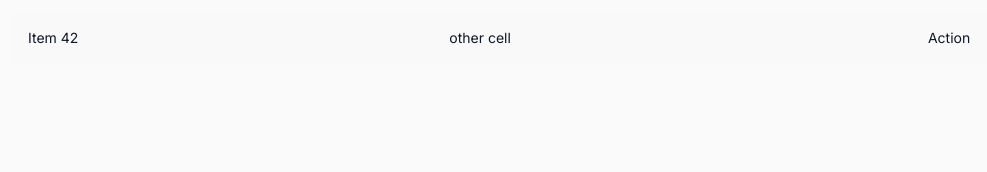
LinkTableRow › navigates with its state when any non-interactive cell is clicked
The image size is (987, 172).
Click the text "other cell" at (480,38), box [433,12,912,64]
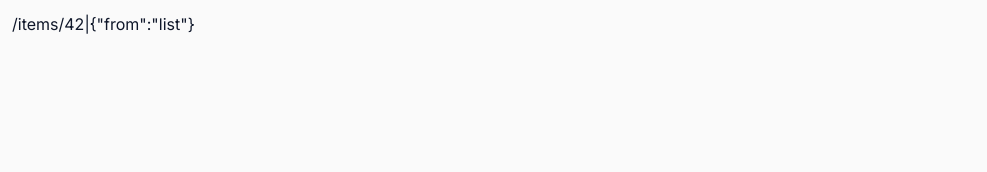
Now the text with test id "destination" reads "/items/42|{\"from\":\"list\"}", box [12,14,84,34]
